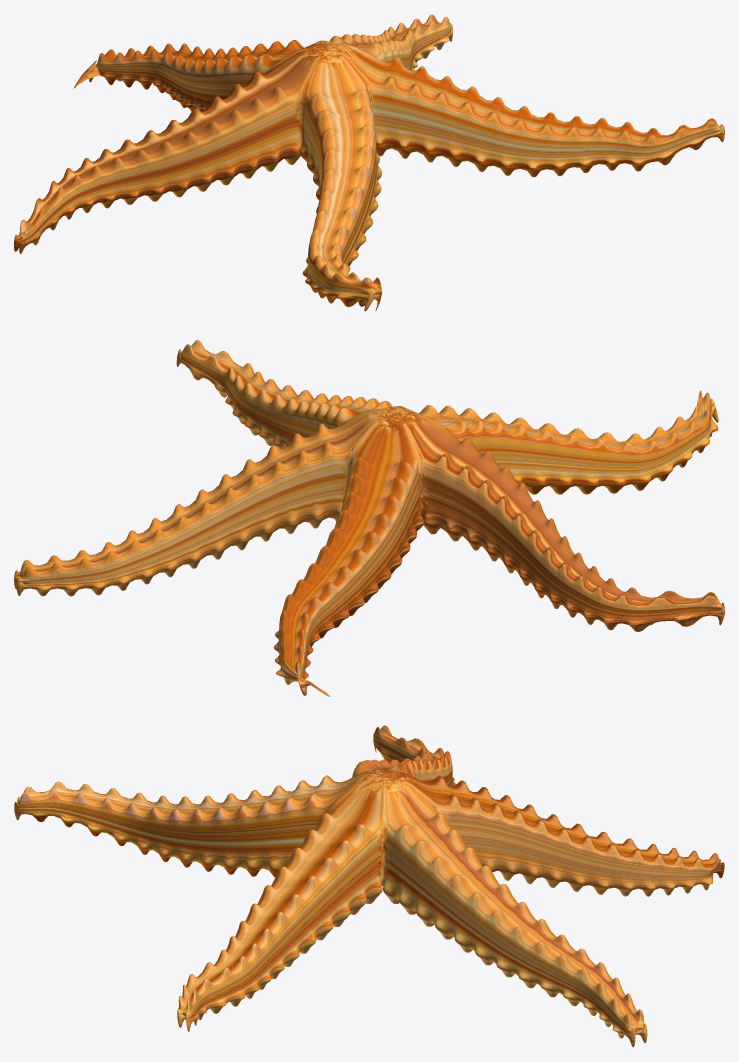
Rendered from estrella.fbx.
The picture shows the model from 3 angles, top to bottom: view 1: azimuth 30°, elevation 25°; view 2: azimuth 150°, elevation 25°; view 3: azimuth 270°, elevation 25°; orthographic projection. The views are drawn at different scales.
Parts seen in each view (by area): view 1: Cylinder.012; view 2: Cylinder.012; view 3: Cylinder.012.
Boxes of the visible parts, <box> form: Cylinder.012: <box>14,14,724,311</box>; Cylinder.012: <box>14,340,724,696</box>; Cylinder.012: <box>14,725,724,1047</box>.
Size of the model in its own units: 48.93 by 10.68 by 46.75.
Materials: 1 (1 with a texture image).
